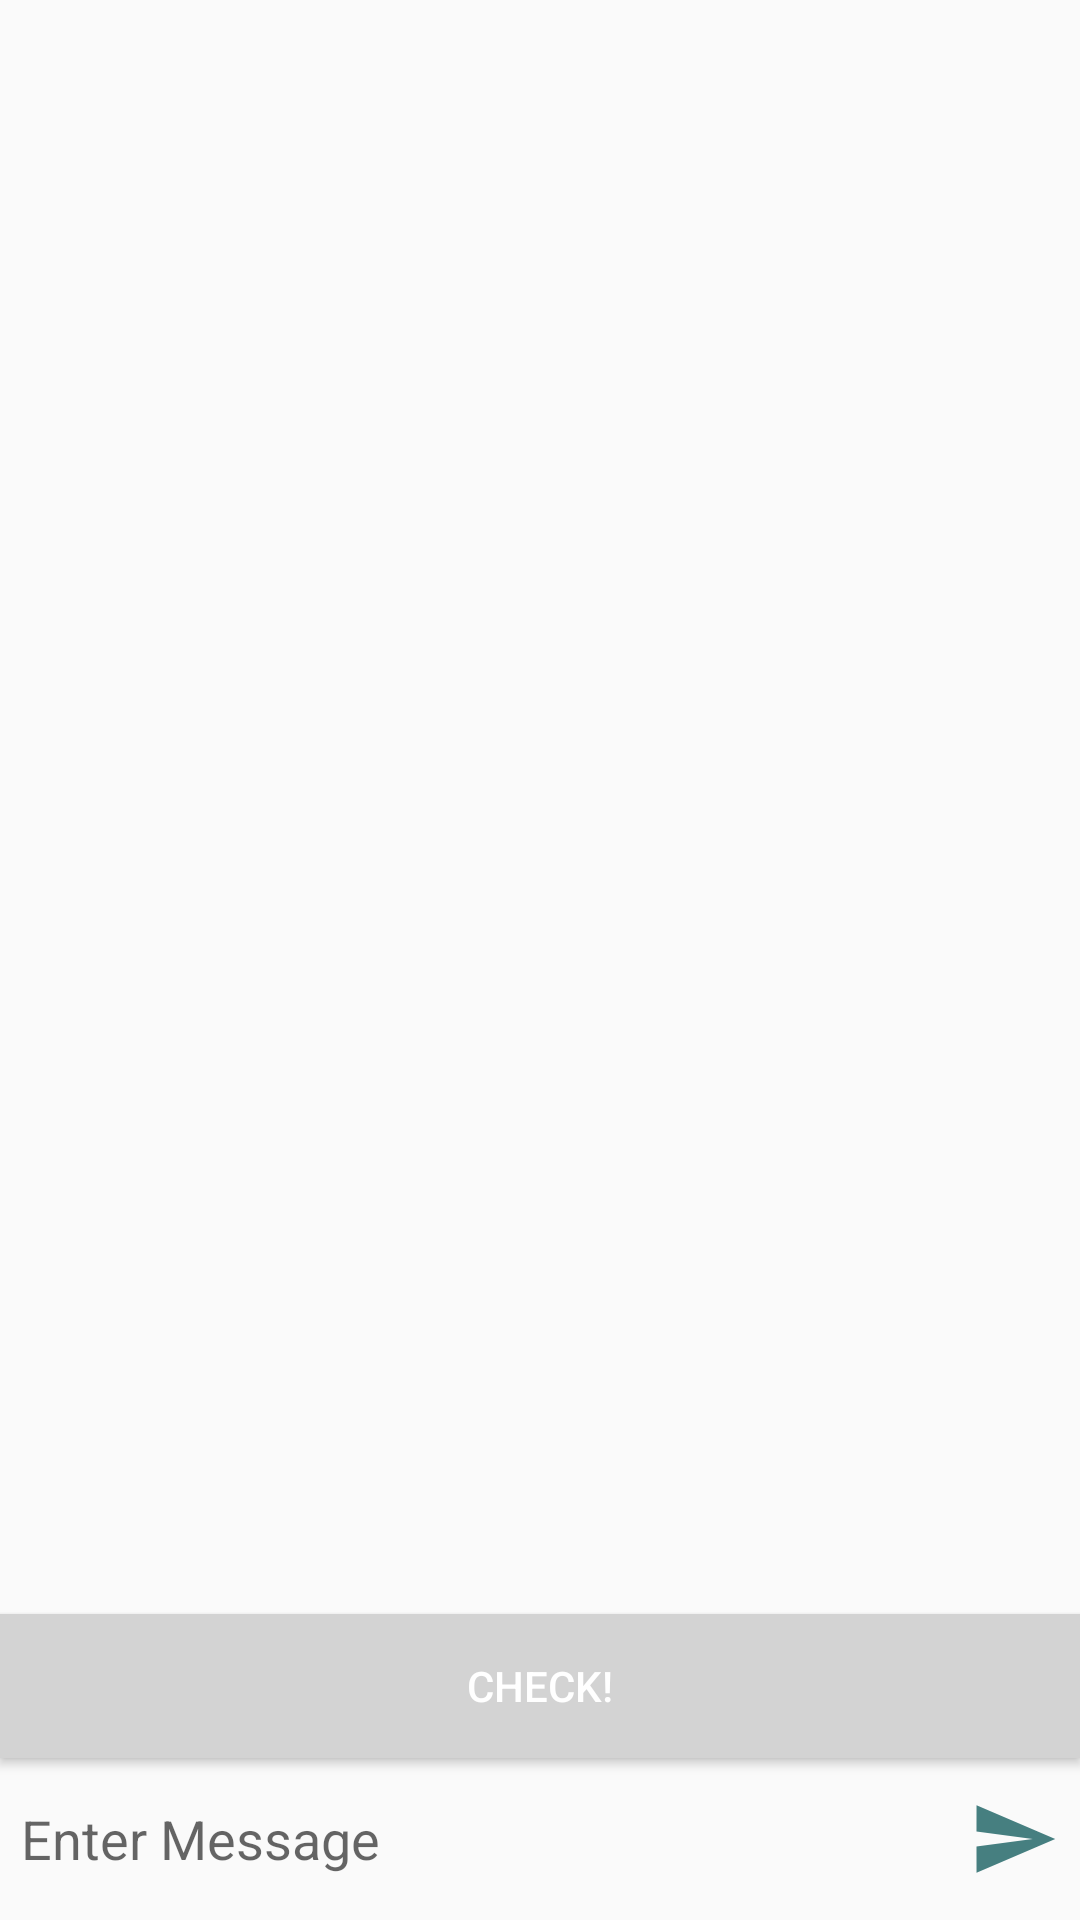

Where icons sit on this 1080px×1920px app screen, as (x1, y1, x2, y2):
send: (976, 1805, 1055, 1873)
